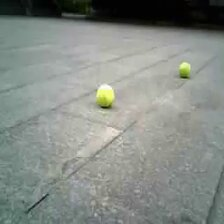tennis: (96, 85, 114, 104), (178, 61, 190, 76)
